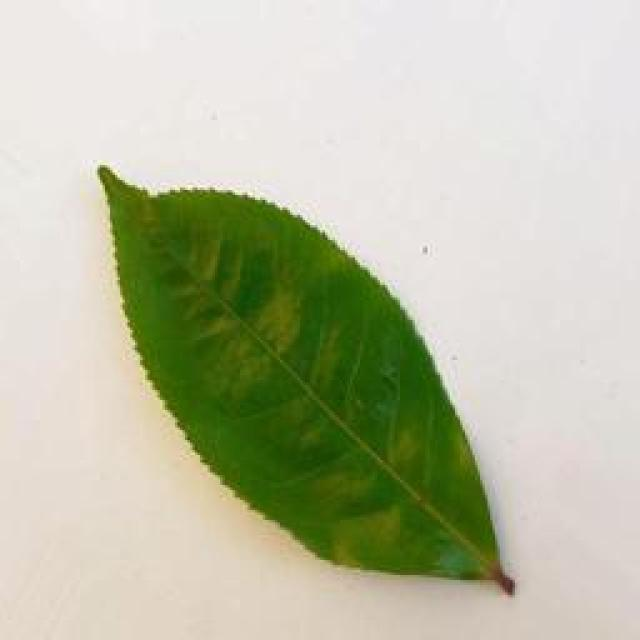Healthy: (95, 152, 511, 608)
